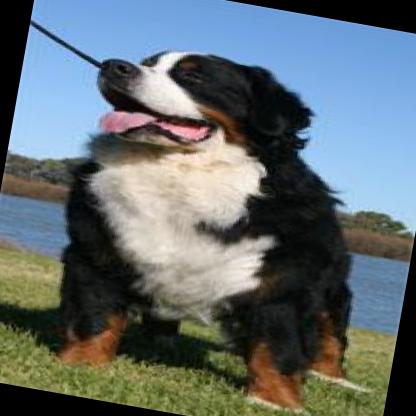Bernese_mountain_dog: (31, 28, 408, 416)
